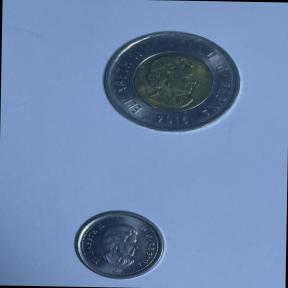Canada-10cent-B: (70, 207, 170, 282)
Canada-2Dollar-B: (98, 28, 246, 136)
